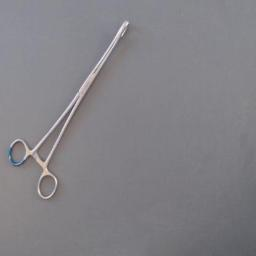Sponge Forceps: (4, 12, 136, 208)
